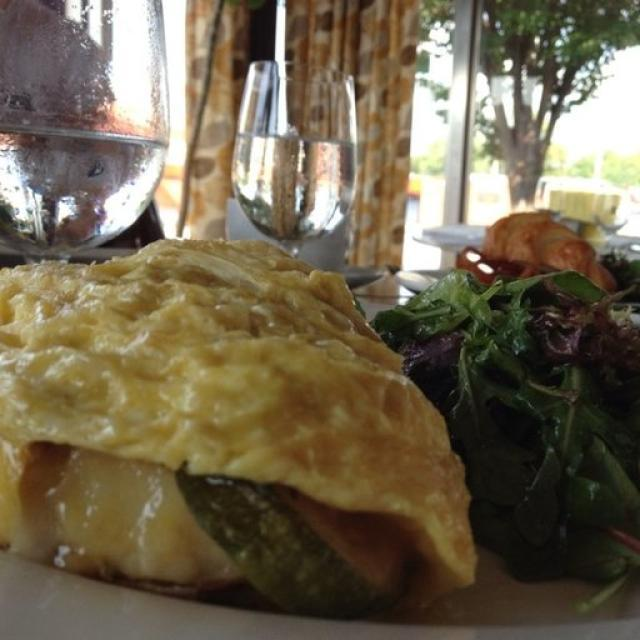telur_ayam_dadar: (1, 235, 480, 618)
